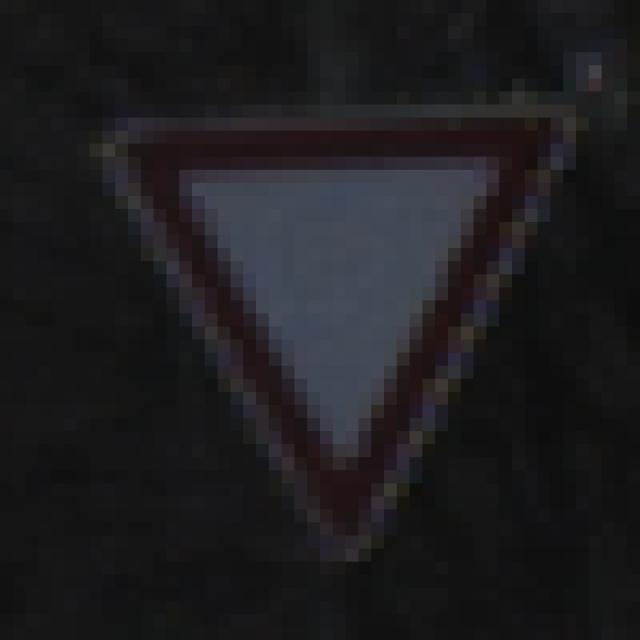Give Way: (78, 79, 577, 576)
